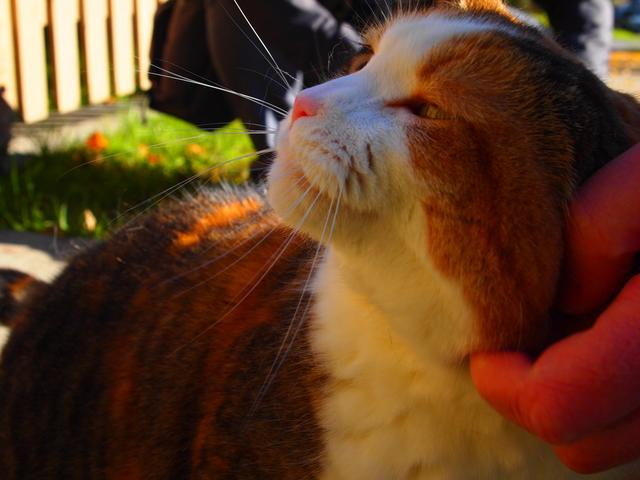cat: (154, 11, 627, 335)
